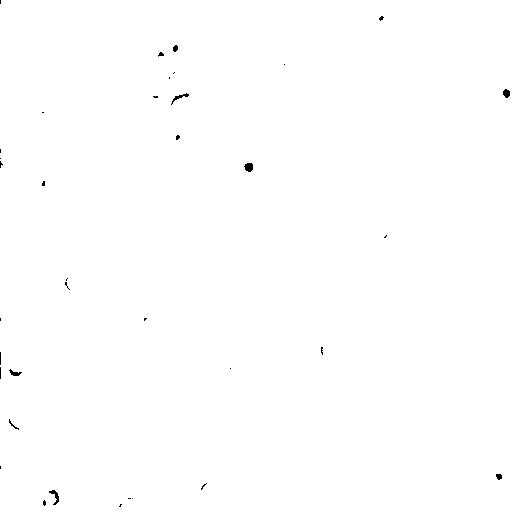micro-algae: (127, 50, 206, 125), (450, 59, 511, 138), (363, 151, 431, 217), (425, 463, 466, 506), (468, 11, 507, 53), (268, 49, 307, 83), (228, 148, 264, 181), (476, 456, 510, 489), (1, 347, 32, 382), (137, 359, 169, 390), (311, 315, 340, 345), (362, 3, 391, 33), (163, 127, 192, 155), (184, 31, 211, 61), (488, 73, 511, 108), (166, 69, 195, 96), (179, 430, 206, 457), (31, 91, 57, 119), (119, 227, 143, 257), (205, 401, 230, 429), (254, 291, 283, 315), (158, 33, 183, 58), (378, 228, 401, 255), (65, 271, 89, 296), (104, 437, 129, 461), (199, 479, 223, 503), (171, 95, 197, 117), (319, 339, 343, 361), (91, 63, 115, 85), (237, 325, 264, 344), (8, 408, 31, 430), (389, 433, 412, 455), (152, 54, 175, 76), (150, 394, 175, 413), (41, 487, 62, 509), (435, 0, 469, 13), (115, 494, 140, 511), (170, 0, 201, 13), (225, 348, 245, 367), (284, 273, 303, 291), (23, 499, 51, 511), (391, 497, 415, 511), (135, 305, 150, 321), (30, 173, 46, 187), (0, 147, 9, 167)
